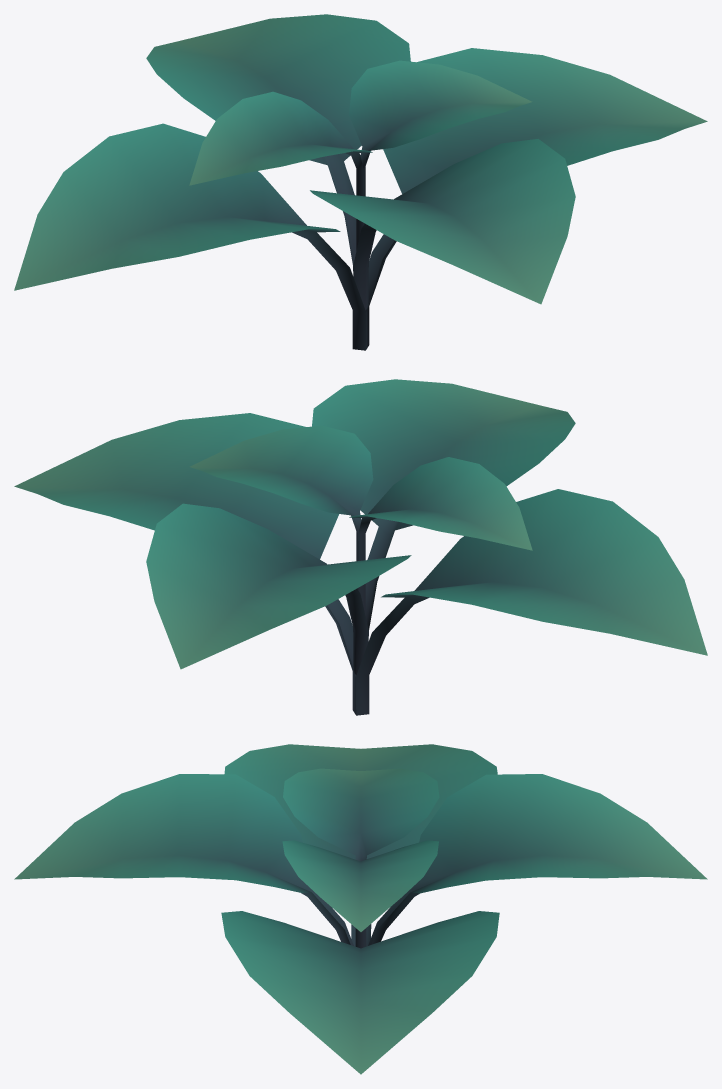
The model's file is S_BigBigChickweed.fbx.
3 views of the same model, one above another, from view 1: azimuth 30°, elevation 25°; view 2: azimuth 150°, elevation 25°; view 3: azimuth 270°, elevation 25° (orthographic). The views are drawn at different scales.
Parts seen in each view (by area): view 1: BigBigChickweed_GEO; view 2: BigBigChickweed_GEO; view 3: BigBigChickweed_GEO.
Part boxes in pixels (x1,y1,x2,y2): BigBigChickweed_GEO: (14, 14, 707, 350); BigBigChickweed_GEO: (14, 379, 707, 715); BigBigChickweed_GEO: (14, 744, 707, 1074).
Size of the model in its own units: 11.83 by 3.88 by 10.65.
